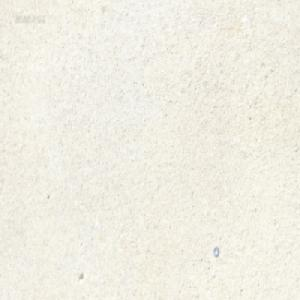Washer: (213, 246, 219, 257)
